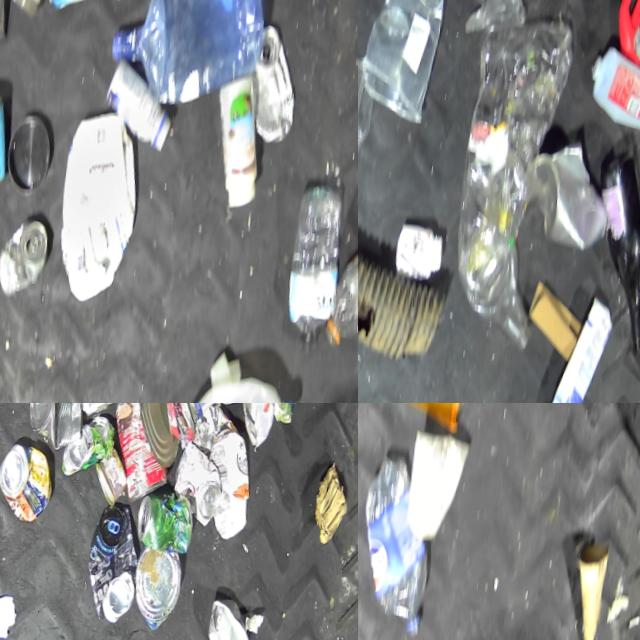can: (529, 124, 613, 257), (83, 498, 147, 622), (246, 17, 306, 143), (106, 403, 179, 502), (170, 434, 227, 523), (132, 542, 188, 629), (0, 212, 54, 301), (0, 437, 57, 521), (134, 483, 196, 551), (61, 407, 116, 478), (130, 403, 189, 463), (24, 403, 93, 450), (92, 441, 132, 503), (205, 592, 256, 640), (237, 403, 279, 444), (0, 90, 16, 194)
milk_jug: (53, 103, 150, 307), (181, 362, 304, 403)
plastic_bottle: (358, 441, 444, 640), (282, 175, 351, 353), (324, 191, 358, 353)
